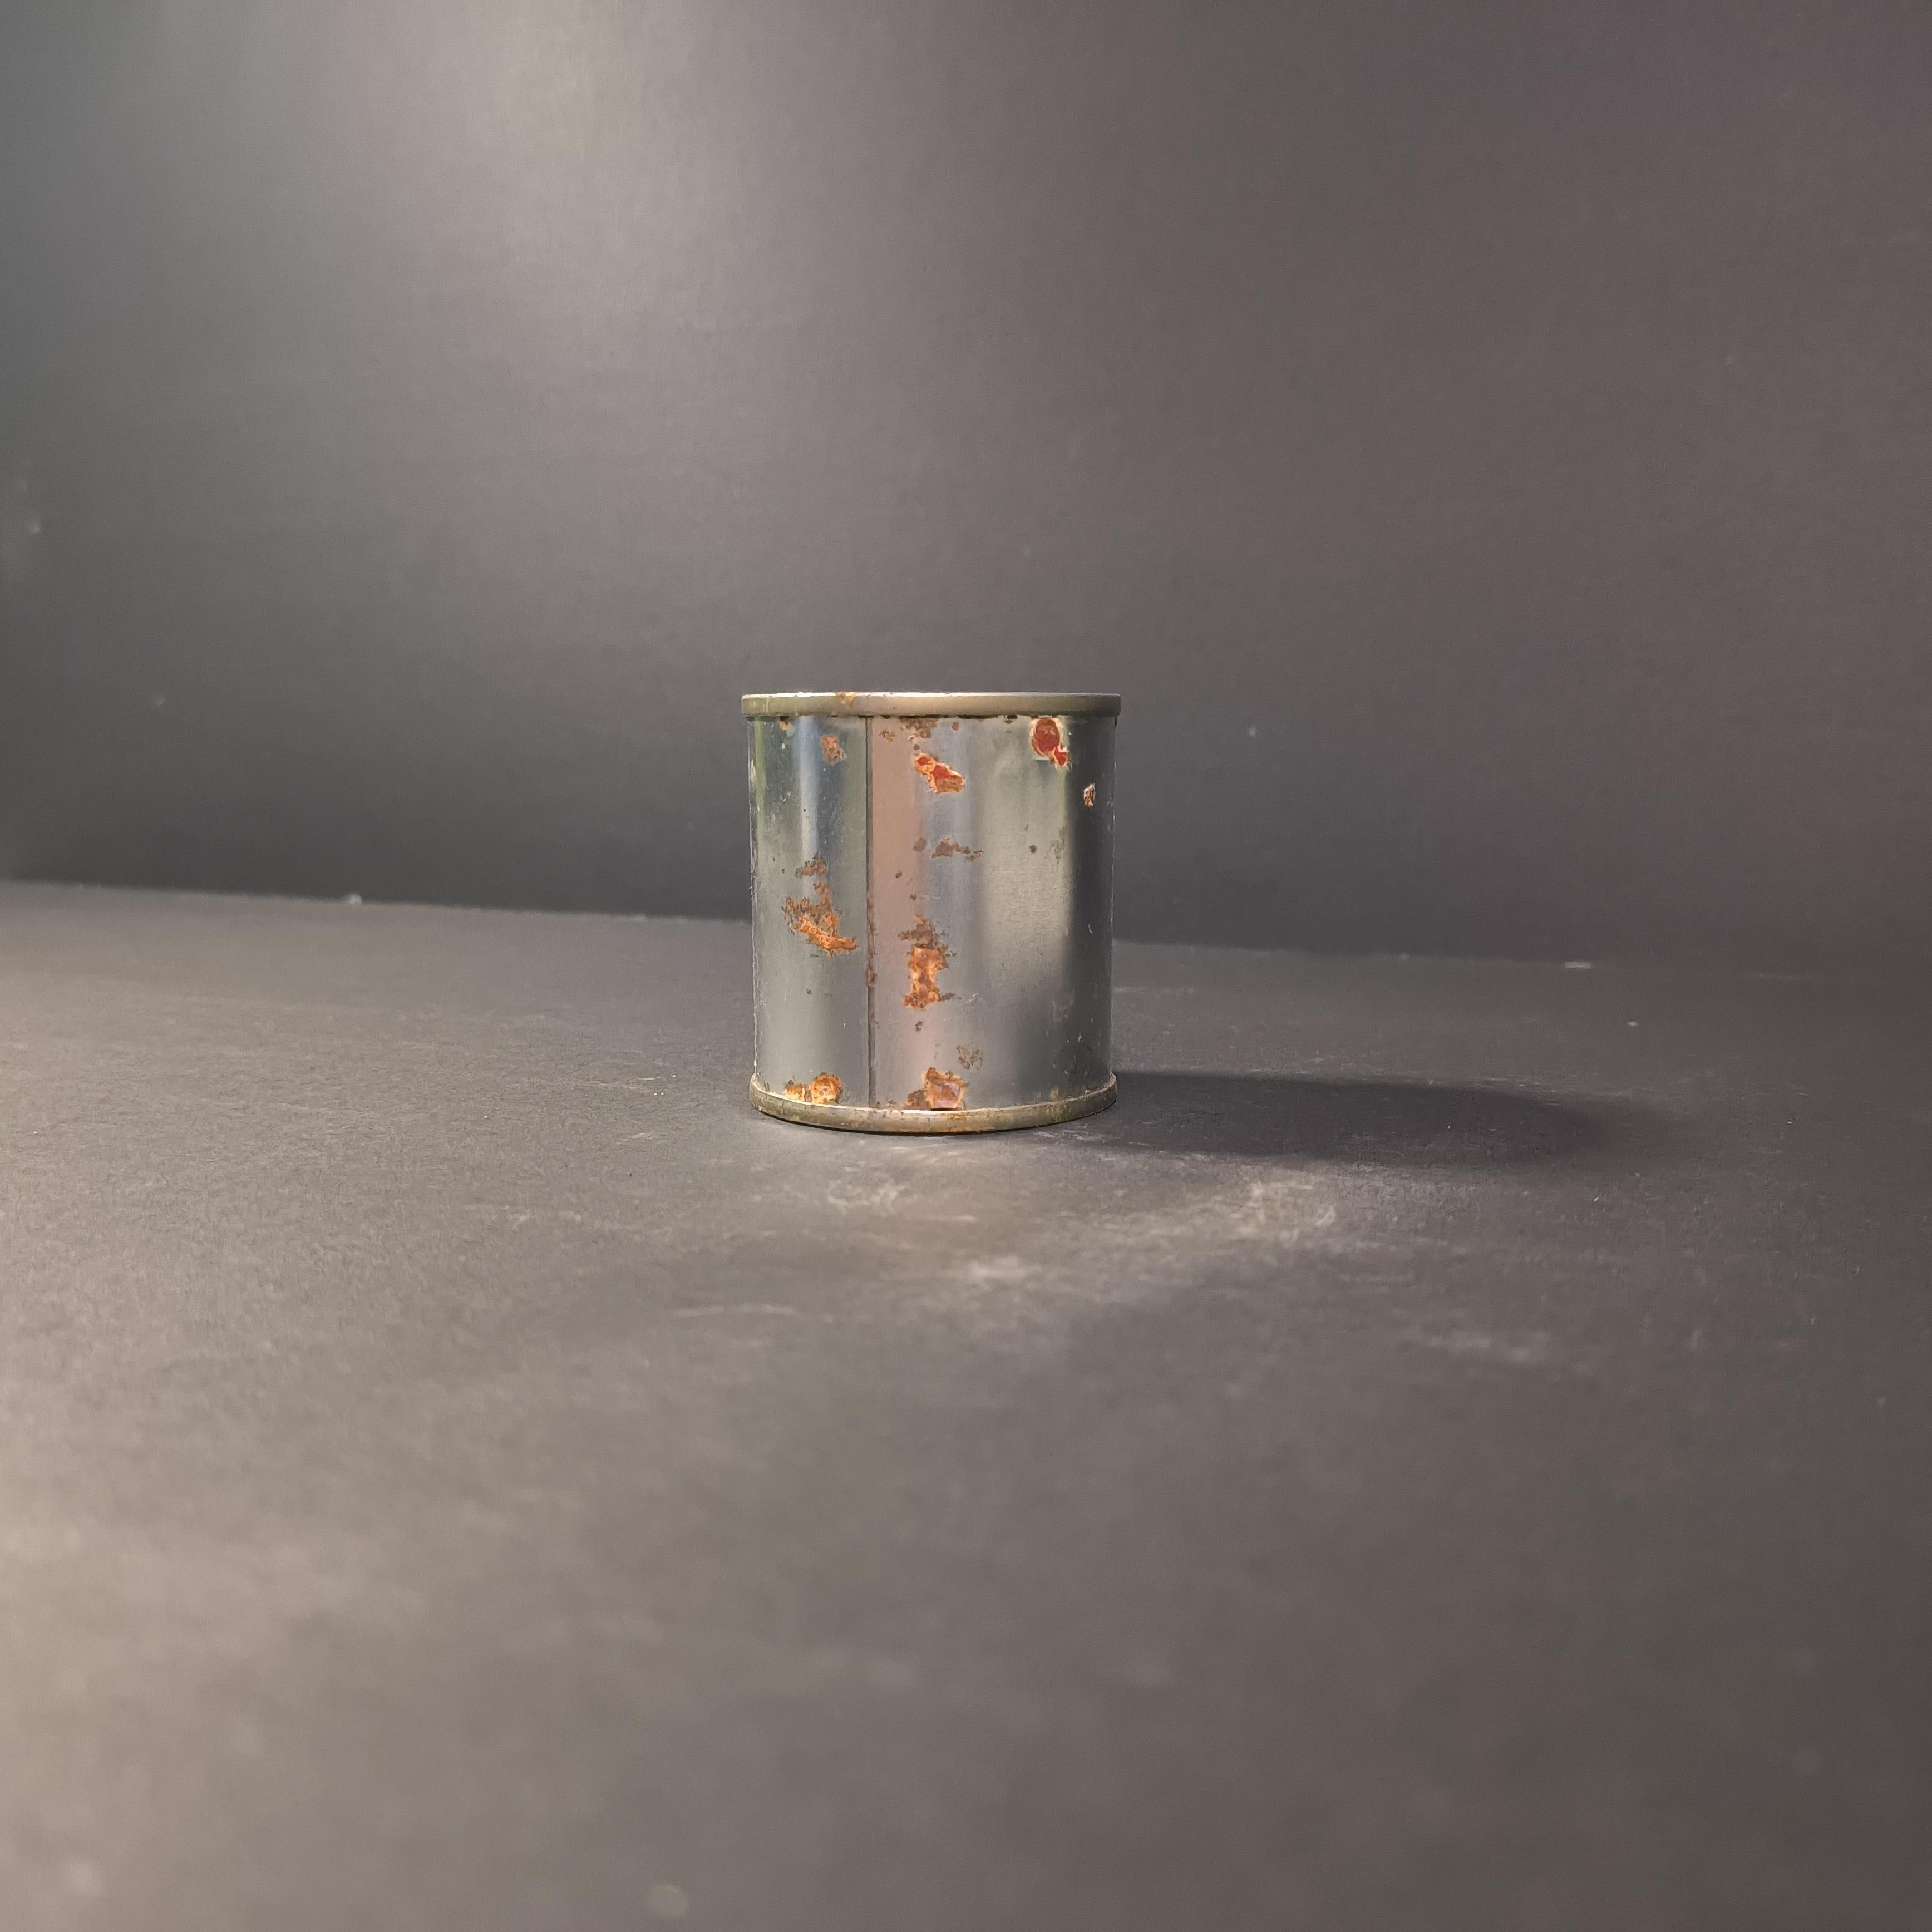Rusted: (732, 665, 1146, 1162)
